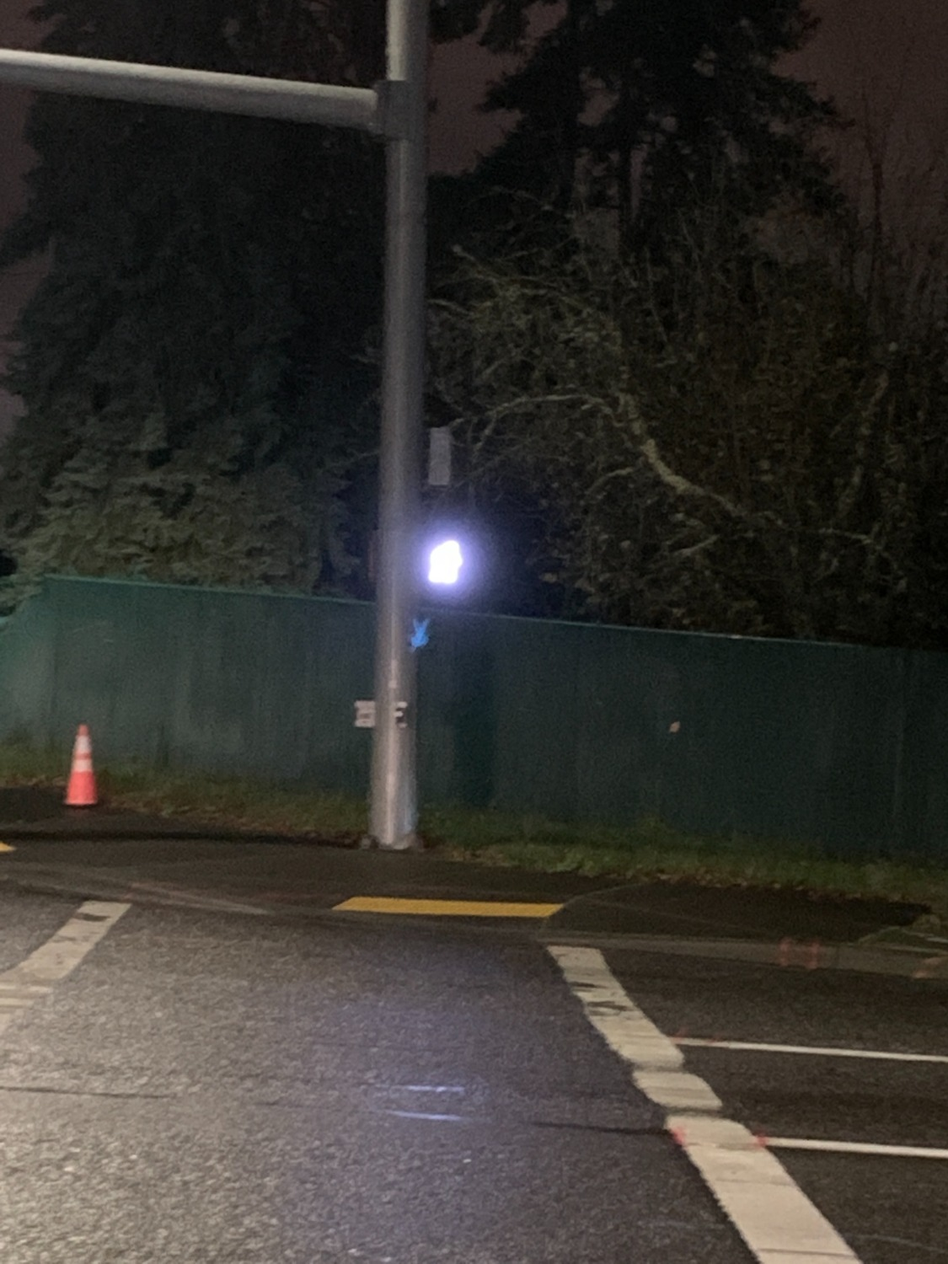pedestrian_walk: (418, 532, 470, 590)
